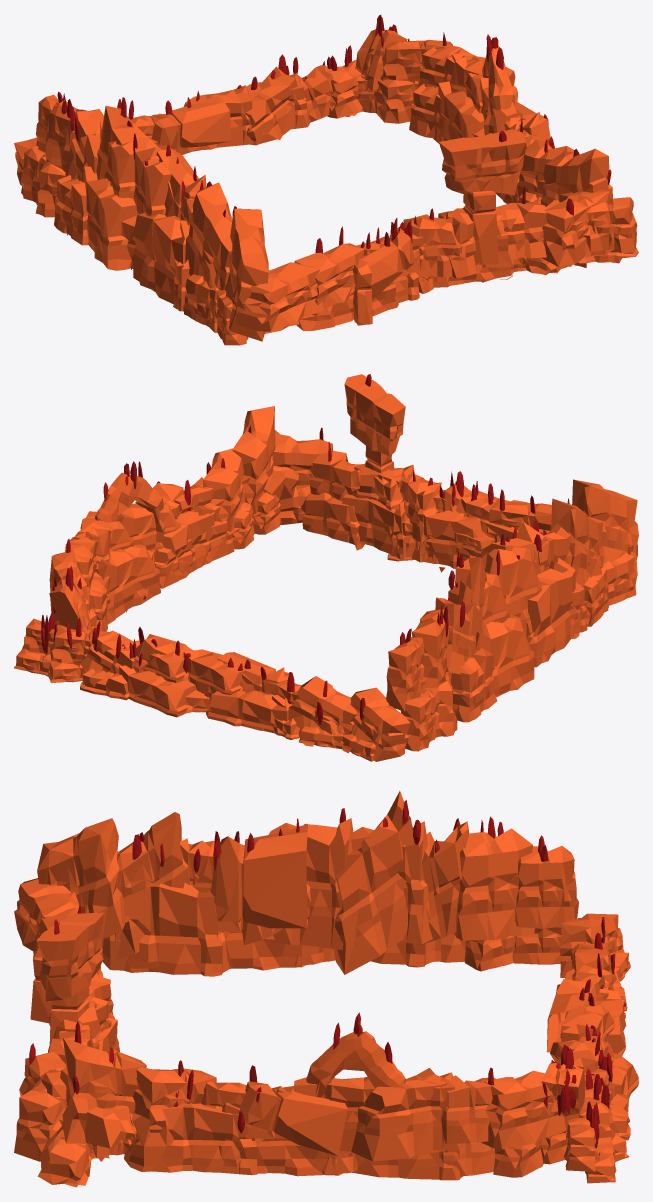
The model's file is PropMuur.FBX.
The picture shows the model from 3 angles, top to bottom: view 1: azimuth 30°, elevation 25°; view 2: azimuth 150°, elevation 25°; view 3: azimuth 270°, elevation 25°; orthographic projection. The views are drawn at different scales.
Visible parts, largest first — view 1: MuurOnder, MuurLinks, MuurRechts, MuurBoven001; view 2: MuurLinks, MuurRechts, MuurBoven001, MuurOnder; view 3: MuurLinks, MuurRechts, MuurOnder, MuurBoven001.
Part boxes in pixels (bbox=[...]): MuurOnder: bbox=[229, 129, 638, 333]; MuurLinks: bbox=[20, 91, 268, 345]; MuurRechts: bbox=[355, 15, 612, 233]; MuurBoven001: bbox=[14, 45, 376, 185]; MuurLinks: bbox=[386, 479, 638, 751]; MuurRechts: bbox=[49, 406, 298, 631]; MuurBoven001: bbox=[14, 613, 410, 761]; MuurOnder: bbox=[273, 374, 637, 572]; MuurLinks: bbox=[37, 791, 578, 976]; MuurRechts: bbox=[60, 1012, 585, 1180]; MuurOnder: bbox=[14, 878, 119, 1187]; MuurBoven001: bbox=[541, 913, 638, 1183].
Bounding box in the file's own units: 243183 × 85473 × 253128.
